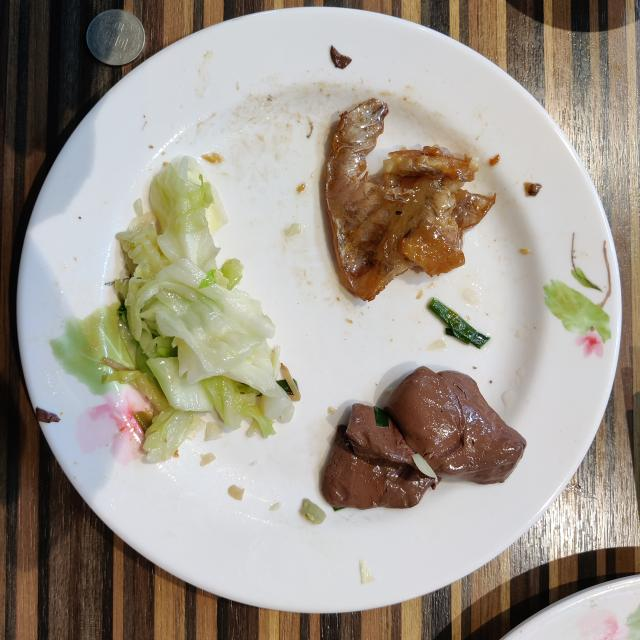Kabayaki sea bream fillet: (325, 99, 495, 301)
cabbage: (102, 156, 295, 461)
coin: (86, 10, 145, 65)
pig blood curd: (321, 366, 526, 509)
